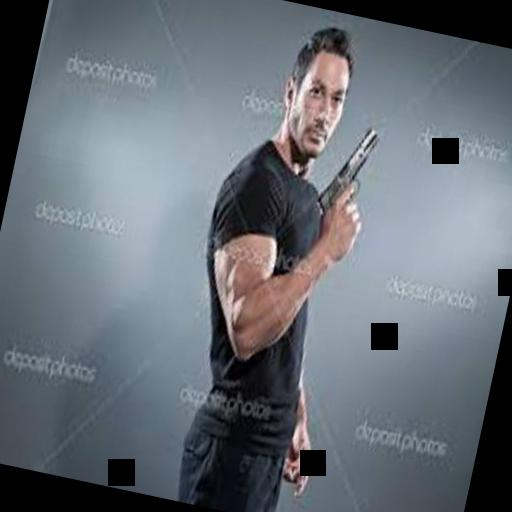Handgun: (310, 118, 380, 220)
